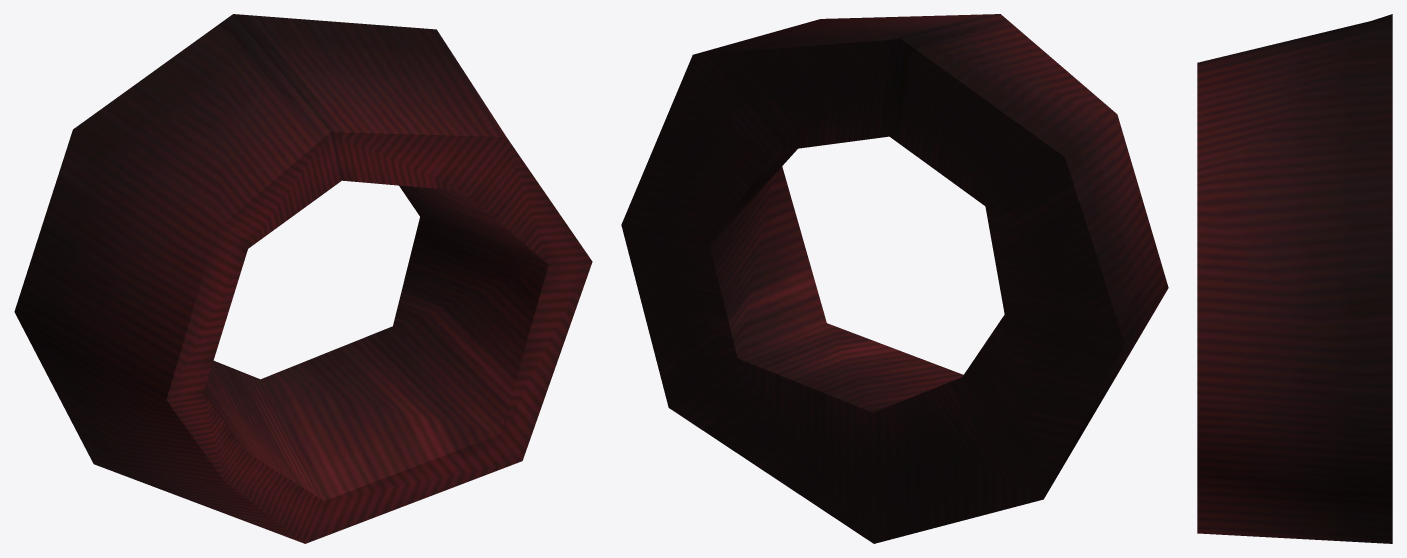
Rendered from p6_industrial_tubing_01_LOD3.obj.
3 views of the same model, side by side, from view 1: azimuth 30°, elevation 25°; view 2: azimuth 150°, elevation 25°; view 3: azimuth 270°, elevation 25° (orthographic). The views are drawn at different scales.
Visible parts, largest first — view 1: mtl_p6_industrial_tubing_02; view 2: mtl_p6_industrial_tubing_02; view 3: mtl_p6_industrial_tubing_02.
Boxes of the visible parts, box(x1,y1,x2,y2) form: mtl_p6_industrial_tubing_02: box(14, 14, 592, 543); mtl_p6_industrial_tubing_02: box(621, 14, 1168, 543); mtl_p6_industrial_tubing_02: box(1197, 14, 1392, 543).
Bounding box in the file's own units: 135 × 131 × 46.33.
